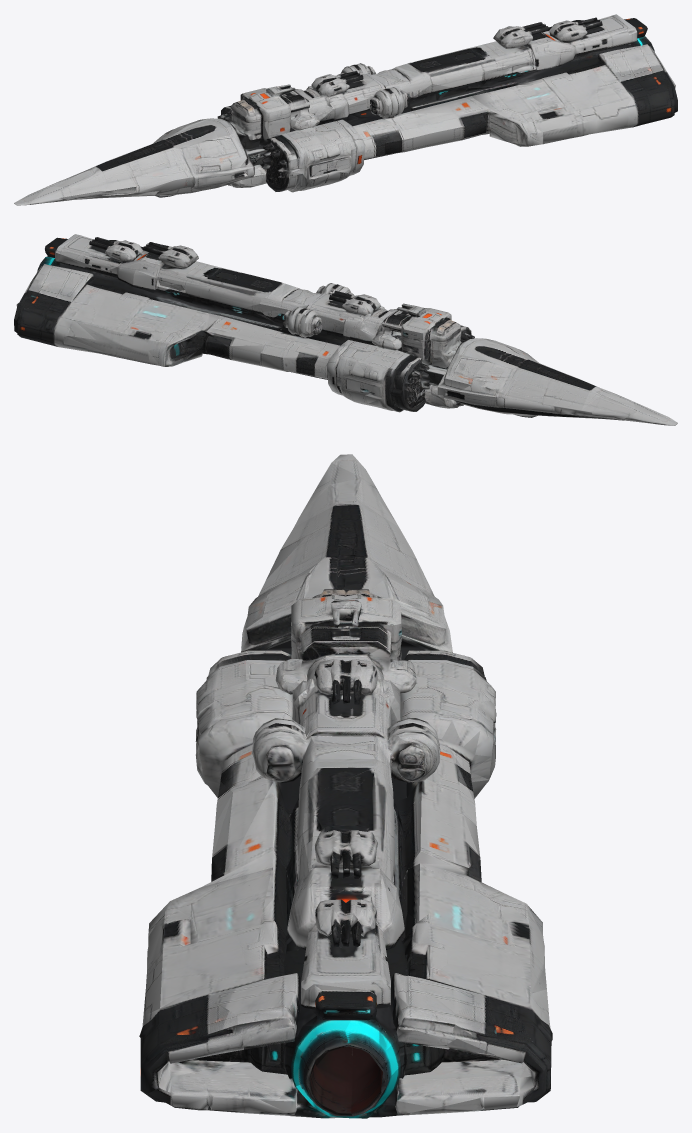
File: warp_destroyer.glb
3 views of the same model, one above another, from view 1: azimuth 30°, elevation 25°; view 2: azimuth 150°, elevation 25°; view 3: azimuth 270°, elevation 25° (orthographic). The views are drawn at different scales.
Visible parts, largest first — view 1: Mesh_0; view 2: Mesh_0; view 3: Mesh_0.
Boxes of the visible parts, x1=… form: Mesh_0: x1=14, y1=14, x2=677, y2=205; Mesh_0: x1=14, y1=234, x2=677, y2=425; Mesh_0: x1=139, y1=454, x2=552, y2=1118.
Size of the model in its own units: 1 by 0.1325 by 0.2836.
1 material, 1 textured.
